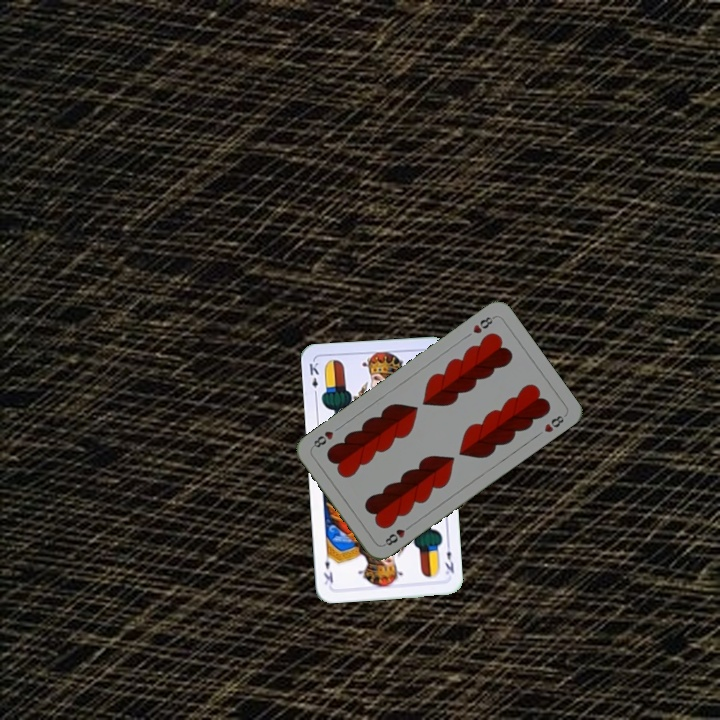EK: (305, 358, 321, 399), (441, 539, 457, 577)
H8: (379, 520, 415, 548), (469, 312, 497, 336)
